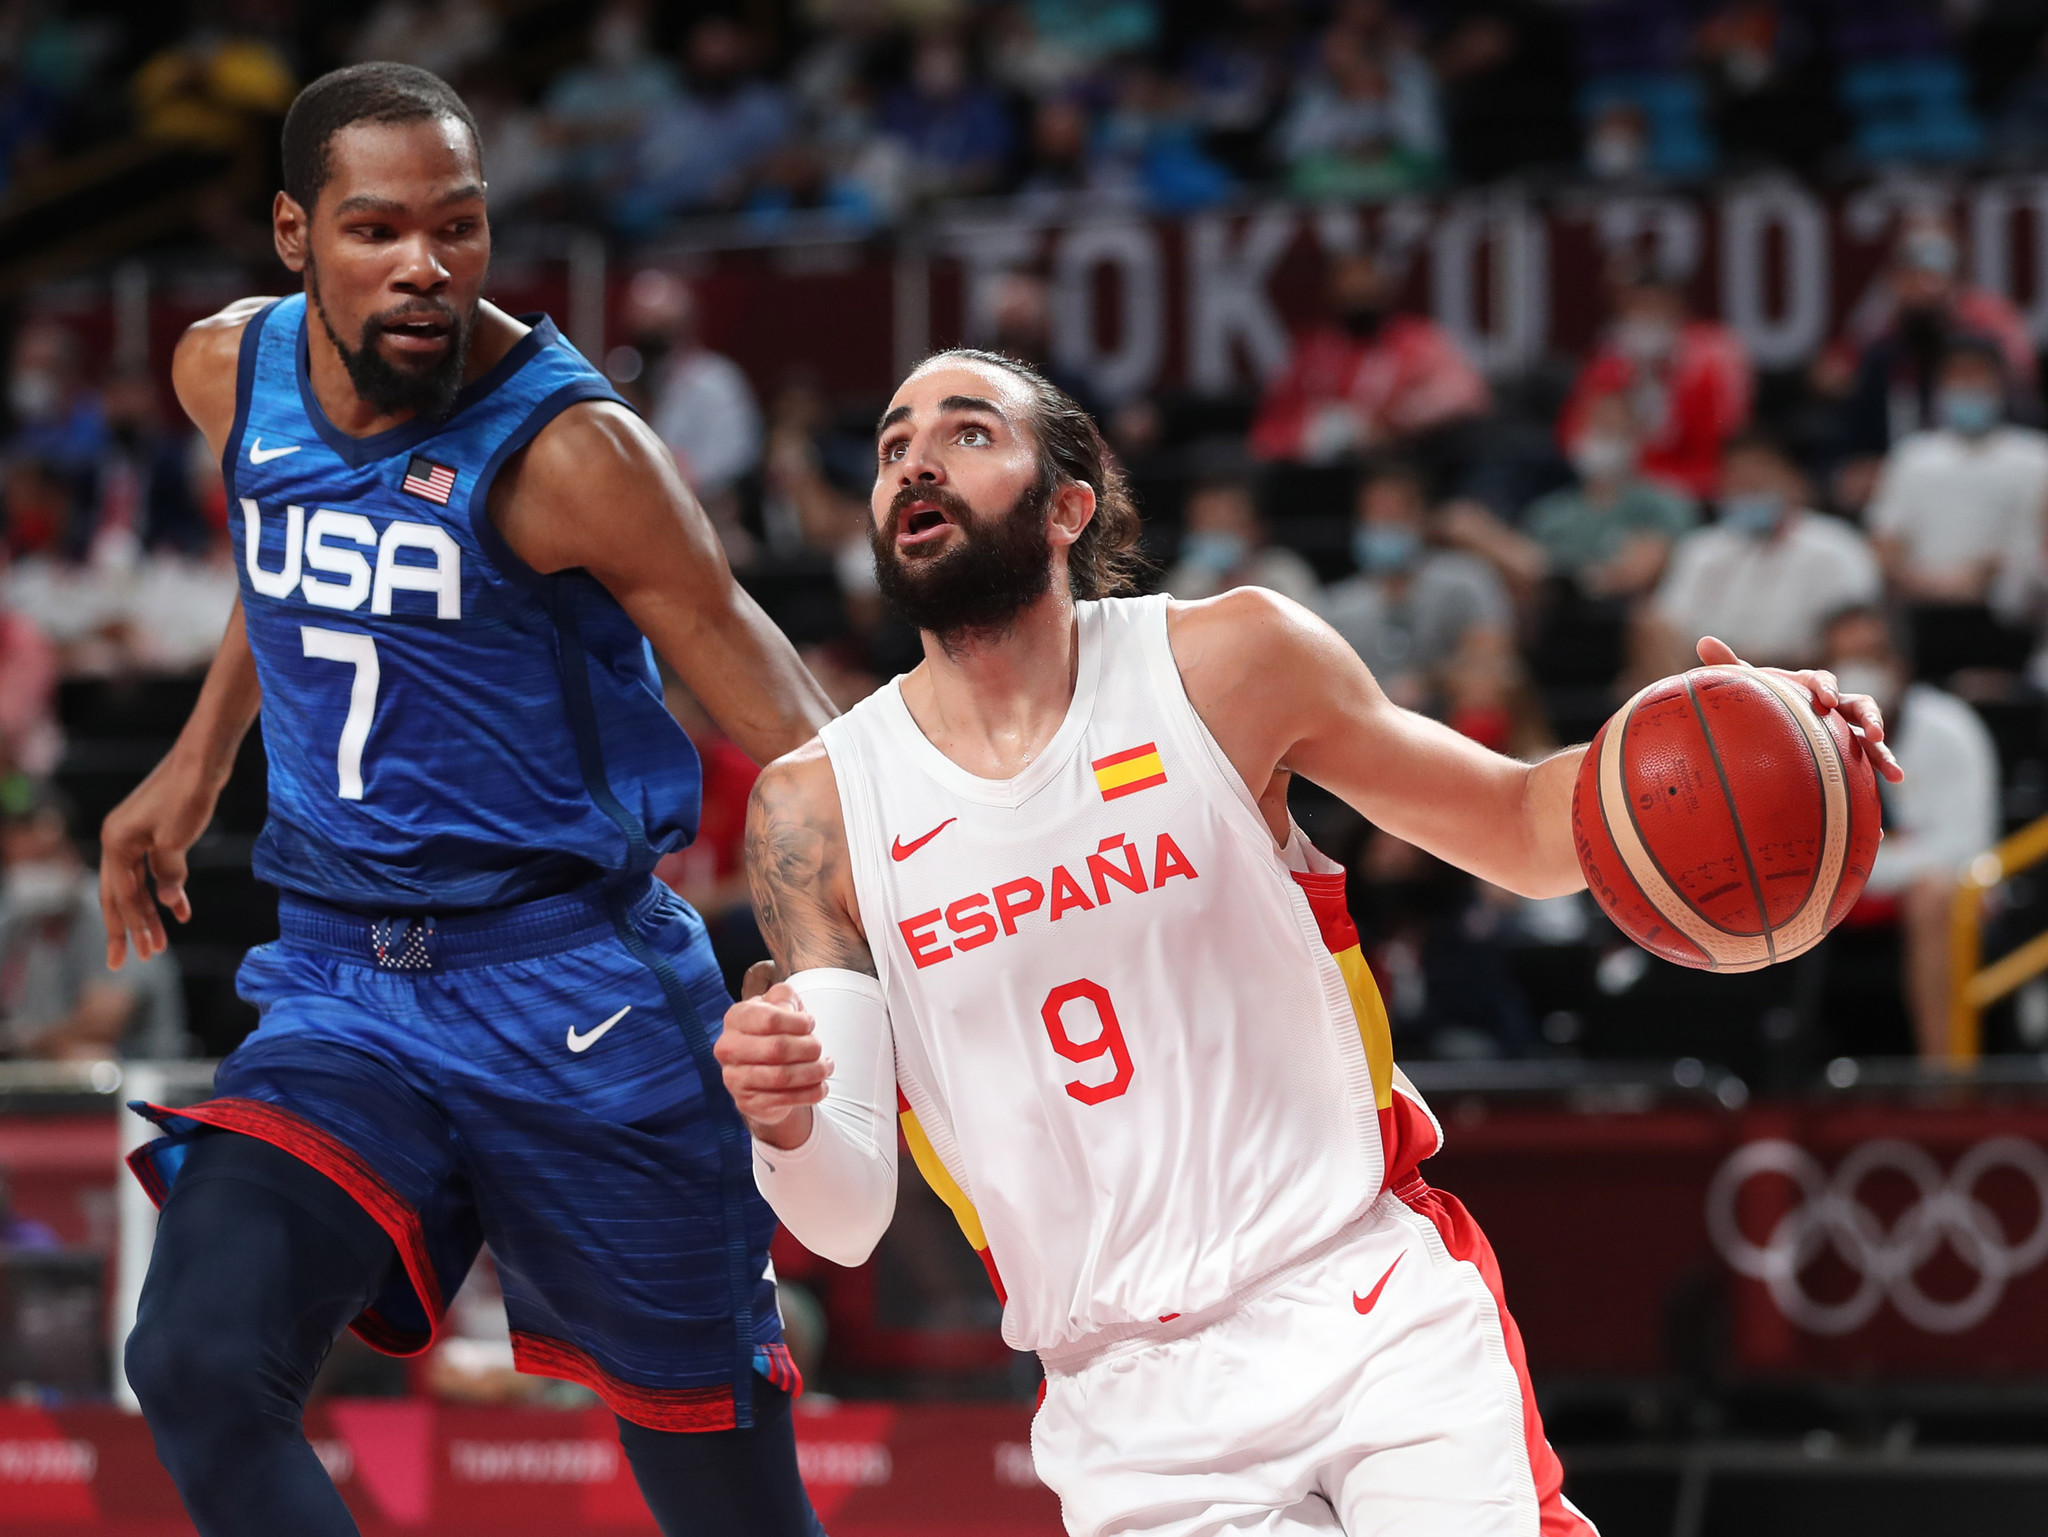basketball: (1574, 657, 1888, 970)
spain_player: (806, 337, 1603, 1537)
usa_player: (153, 62, 840, 1537)
